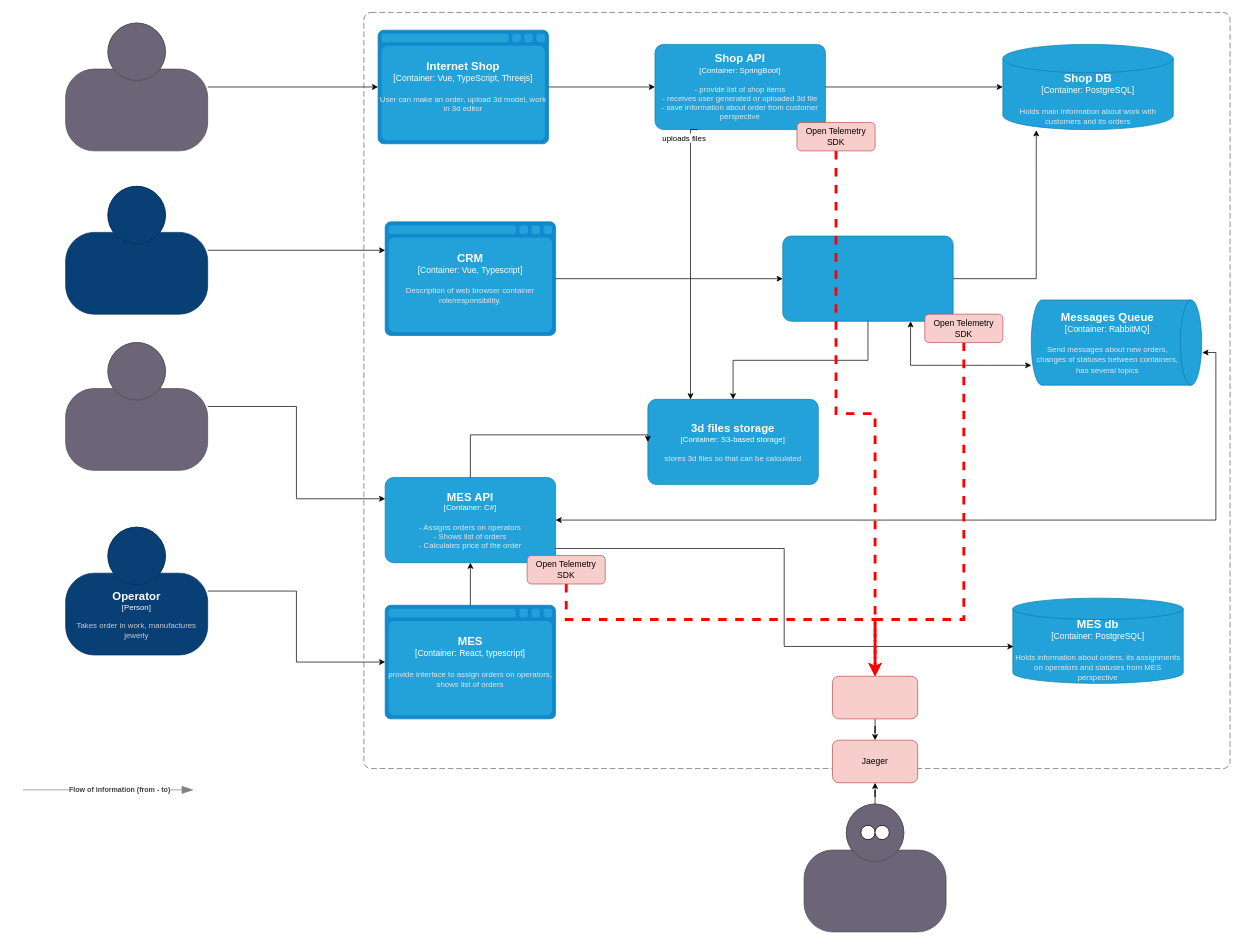
This 1243x944 diagram has some shape labels left out. Each missing label, with the box of its shape:
API user [Person] Description of external person.: (65, 342, 208, 470)
CRM API [Container: SpringBoot] Description of container role/responsibility.: (782, 235, 953, 321)
Customer [Person] Description of external person.: (65, 22, 208, 151)
Jewerly Store System [Software System]: (363, 12, 1230, 769)
OpenTelemetry Collector: (832, 676, 918, 719)
Seller [Person] Operates with order, confirms manufacturing for the user: (65, 186, 208, 314)
Support [Person] Description of external person.: (803, 803, 946, 932)
